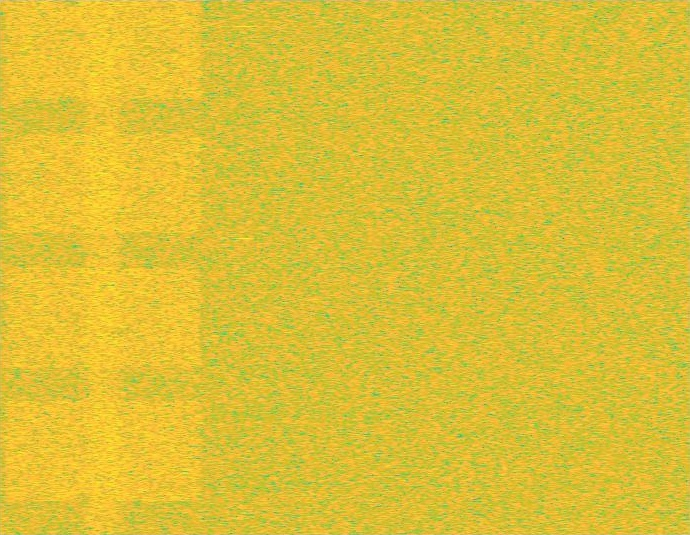5G: (0, 0, 207, 534)
DSSS: (80, 0, 127, 534)
Radar: (237, 0, 251, 534)
